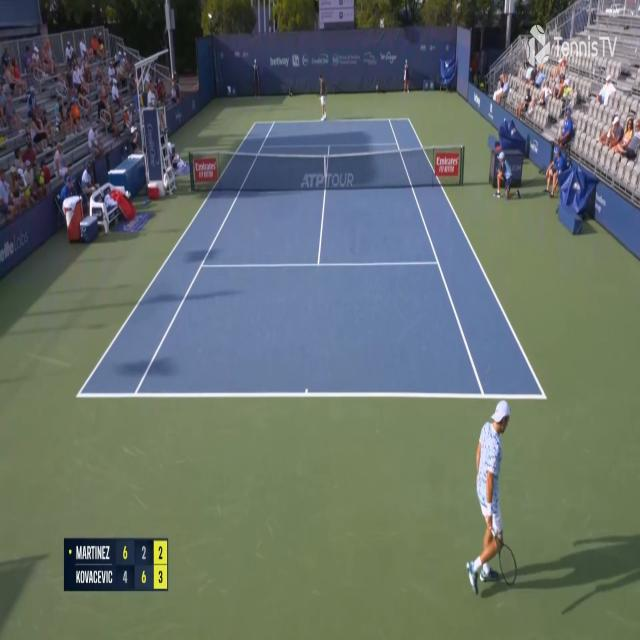tennis-player: (464, 394, 520, 596), (317, 74, 329, 122)
